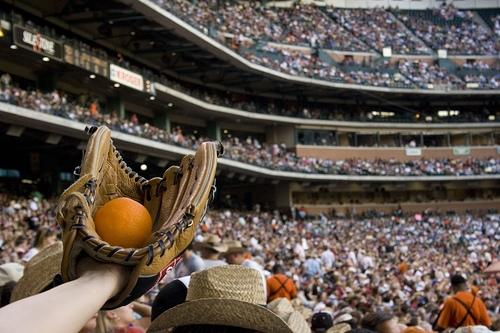orange: (93, 197, 152, 249)
